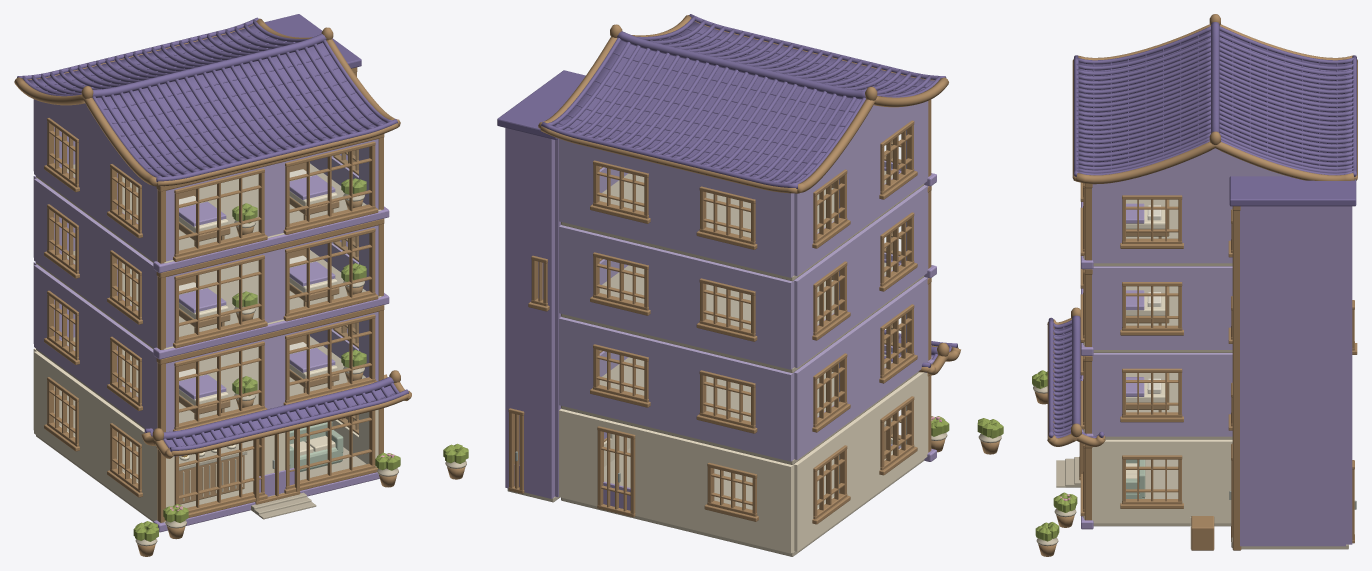
3 renders of one model, left to right at view 1: azimuth 30°, elevation 25°; view 2: azimuth 150°, elevation 25°; view 3: azimuth 270°, elevation 25°, orthographic. The views are drawn at different scales.
Parts seen in each view (by area): view 1: SM_22_01_建筑墙体, SM_22_02_曲面屋顶, SM_22_04_门窗楼梯, SM_22_06_景观设施, SM_22_03_木构回廊, SM_22_05_景观植物; view 2: SM_22_01_建筑墙体, SM_22_02_曲面屋顶, SM_22_04_门窗楼梯, SM_22_05_景观植物, SM_22_03_木构回廊; view 3: SM_22_01_建筑墙体, SM_22_02_曲面屋顶, SM_22_04_门窗楼梯, SM_22_03_木构回廊, SM_22_06_景观设施, SM_22_05_景观植物.
Part boxes in pixels (x1,y1,x2,y2): SM_22_01_建筑墙体: (33,99,389,532); SM_22_02_曲面屋顶: (14,14,411,458); SM_22_04_门窗楼梯: (44,118,378,519); SM_22_06_景观设施: (179,162,355,504); SM_22_03_木构回廊: (156,67,384,522); SM_22_05_景观植物: (133,178,468,556); SM_22_01_建筑墙体: (505,101,936,556); SM_22_02_曲面屋顶: (497,14,960,375); SM_22_04_门窗楼梯: (508,120,917,524); SM_22_05_景观植物: (931,416,1003,454); SM_22_03_木构回廊: (927,99,931,452); SM_22_01_建筑墙体: (1081,148,1352,549); SM_22_02_曲面屋顶: (1047,14,1357,446); SM_22_04_门窗楼梯: (1056,182,1357,543); SM_22_03_木构回廊: (1084,183,1241,550); SM_22_06_景观设施: (1126,199,1214,550); SM_22_05_景观植物: (1032,370,1077,556).
Size of the model in its own units: 10.72 by 12.24 by 9.03.
